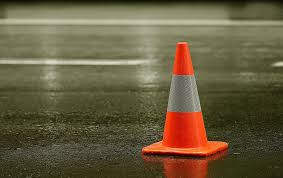cones: (142, 40, 228, 157)
